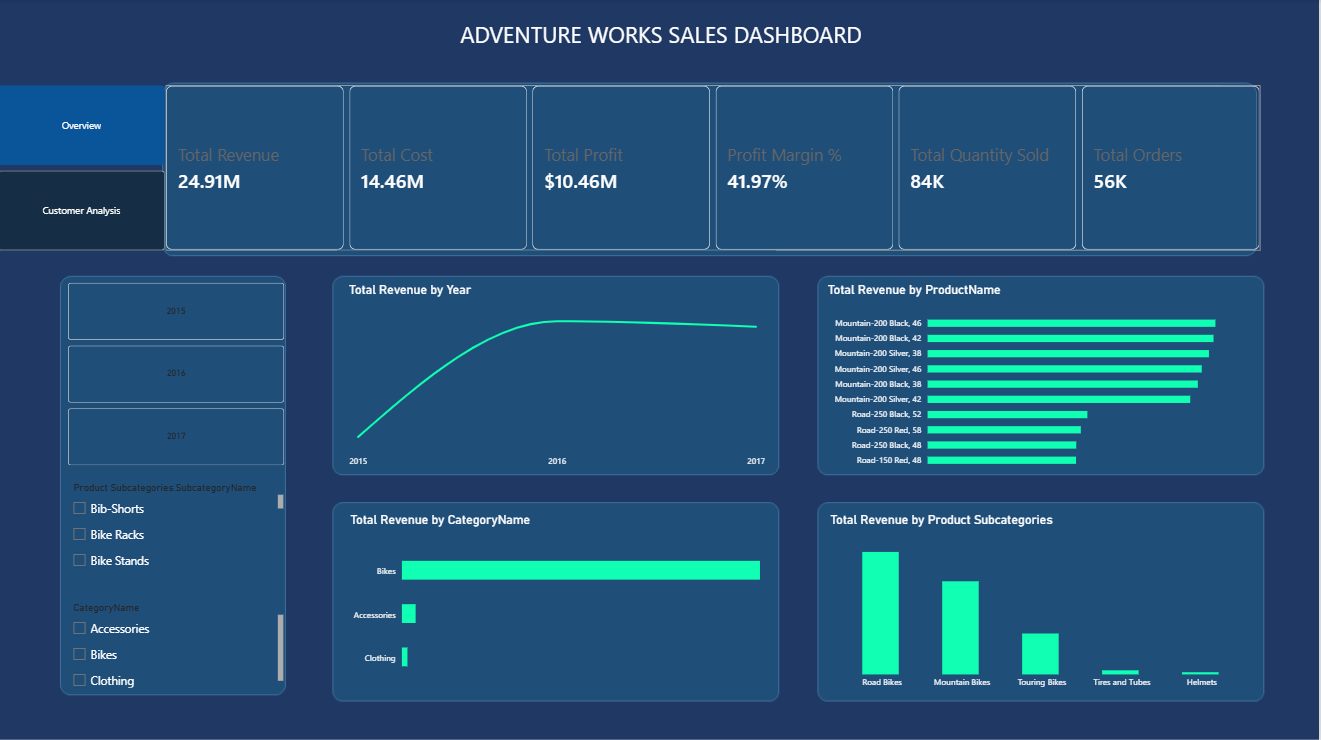

Layout of this report page (visuals, bound fields, positions):
{"tool":"powerbi","page":{"name":"Overview","canvas":[1920,1080],"ordinal":0},"visuals":[{"type":"cardVisual","fields":{"Data":["Measures (2).Total Revenue","Measures (2).Total Cost","Measures (2).Total Profit","Measures (2).Profit Margin %","Measures (2).Total Quantity Sold","Measures (2).Total Orders"]},"box":[242.5,125,1595,240],"z":0},{"type":"lineChart","fields":{"Category":["Dim_Date.Year"],"Y":["Measures (2).Total Revenue"]},"box":[494,397.3,636,302.6],"z":1},{"type":"clusteredBarChart","fields":{"Category":["Products.CategoryName"],"Y":["Measures (2).Total Revenue"]},"box":[495,732.5,635,282.5],"z":2},{"type":"clusteredBarChart","fields":{"Category":["Products.ProductName"],"Y":["Measures (2).Total Revenue"]},"box":[1189.7,397.3,648.4,302.6],"z":3},{"type":"advancedSlicerVisual","fields":{"Values":["Dim_Date.Year"]},"box":[100.9,411.7,314.9,265.5],"z":5},{"type":"clusteredColumnChart","title":"Total Revenue by Product Subcategories","fields":{"Category":["Products.Product Subcategories.SubcategoryName"],"Y":["Measures (2).Total Revenue"]},"box":[1192.5,732.5,647.5,290],"z":6},{"type":"slicer","fields":{"Values":["Products.CategoryName"]},"box":[102.5,875,312.5,140],"z":7},{"type":"slicer","fields":{"Values":["Products.Product Subcategories.SubcategoryName"]},"box":[102.5,700,312.5,137.5],"z":8},{"type":"pageNavigator","box":[0,125.6,242.9,240.8],"z":9},{"type":"textbox","box":[100.9,28.8,1722.8,70],"z":10}]}

Visuals, with their boxes in screenshot pixels (x1, y1, x2, y2), scaled from the page's 1920x1080 canvas onto the 1321x740 screenshot:
cardVisual - Measures (2).Total Revenue x Measures (2).Total Cost: left=167, top=86, right=1264, bottom=250
lineChart - Dim_Date.Year x Measures (2).Total Revenue: left=340, top=272, right=777, bottom=480
clusteredBarChart - Products.CategoryName x Measures (2).Total Revenue: left=341, top=502, right=777, bottom=695
clusteredBarChart - Products.ProductName x Measures (2).Total Revenue: left=819, top=272, right=1265, bottom=480
advancedSlicerVisual - Dim_Date.Year: left=69, top=282, right=286, bottom=464
"Total Revenue by Product Subcategories" clusteredColumnChart: left=820, top=502, right=1266, bottom=701
slicer - Products.CategoryName: left=71, top=600, right=286, bottom=695
slicer - Products.Product Subcategories.SubcategoryName: left=71, top=480, right=286, bottom=574
pageNavigator: left=0, top=86, right=167, bottom=251
textbox: left=69, top=20, right=1255, bottom=68
